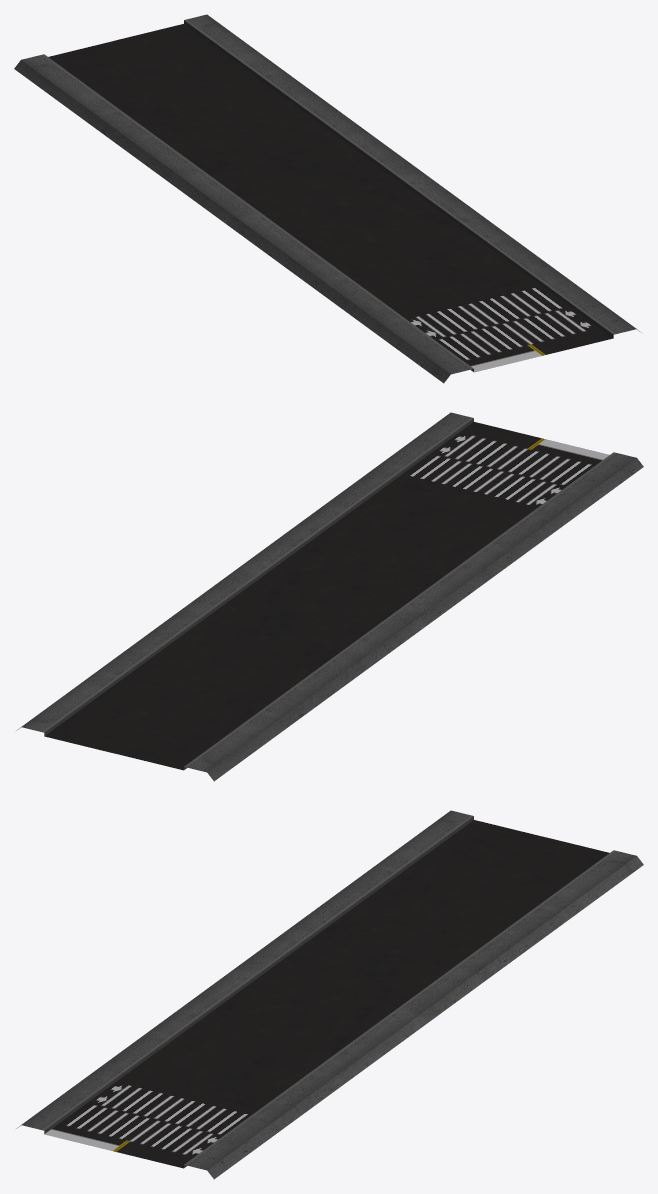
The model's file is RJs_Road 2+2 Basic Node.fbx.
3 views of the same model, one above another, from view 1: azimuth 30°, elevation 25°; view 2: azimuth 150°, elevation 25°; view 3: azimuth 330°, elevation 25° (orthographic).
Visible parts, largest first — view 1: plane; view 2: plane; view 3: plane.
Boxes of the visible parts, box(x1,y1,x2,y2) form: plane: box(14, 14, 641, 383); plane: box(16, 412, 643, 781); plane: box(16, 810, 643, 1179).
Bounding box in the file's own units: 1720 × 60.1 × 6400.
